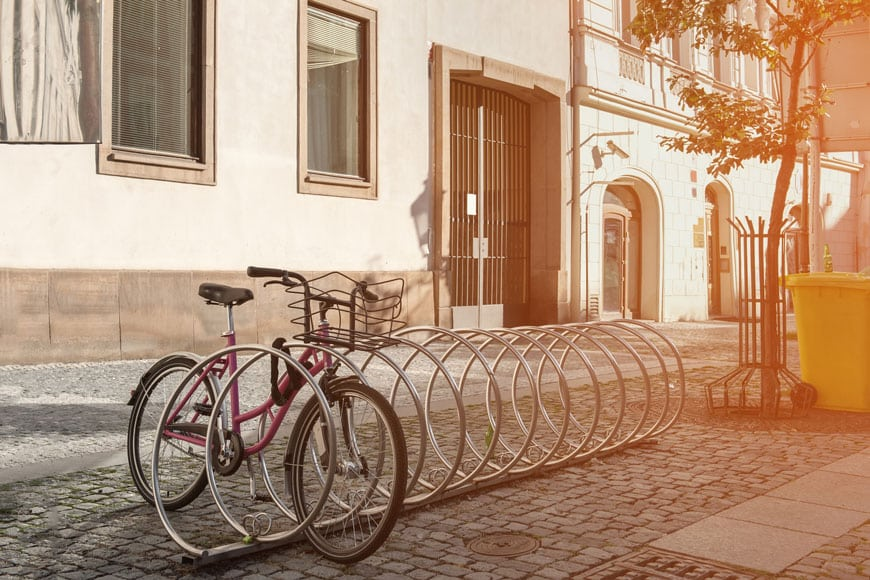Bicycle: (100, 261, 413, 556)
TrashBin: (784, 262, 870, 421)
